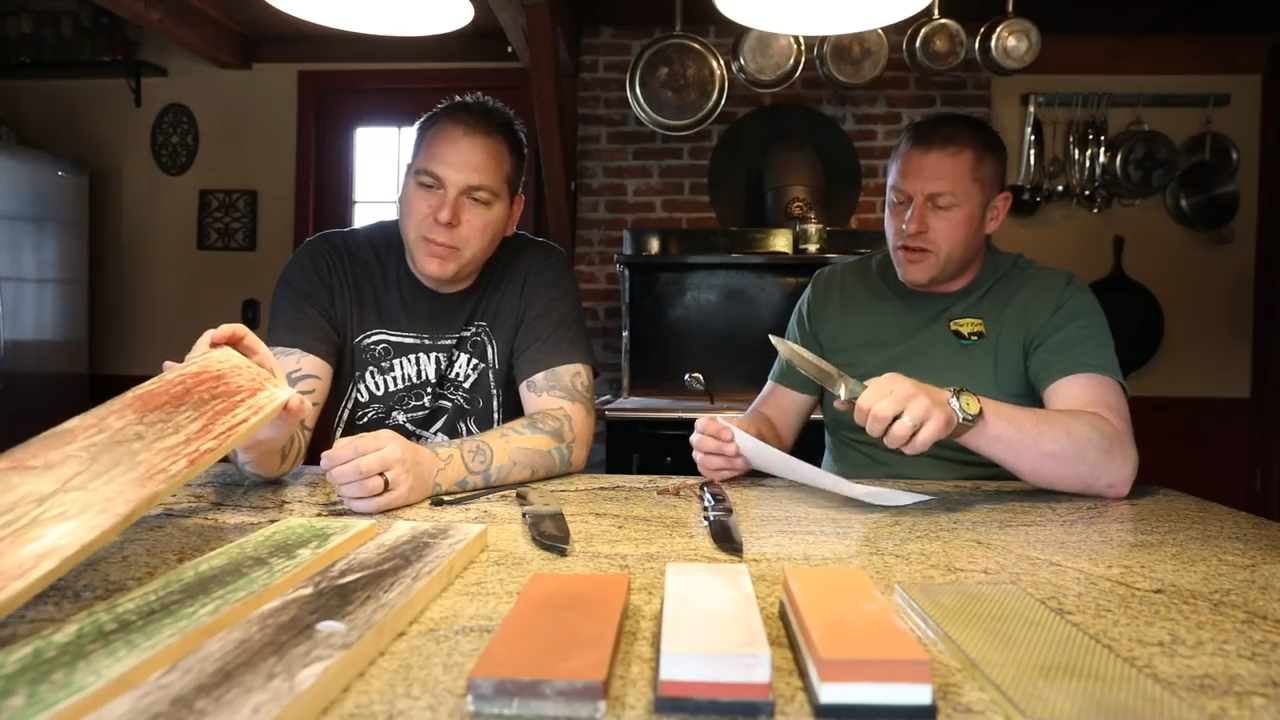knife: (758, 323, 919, 451)
